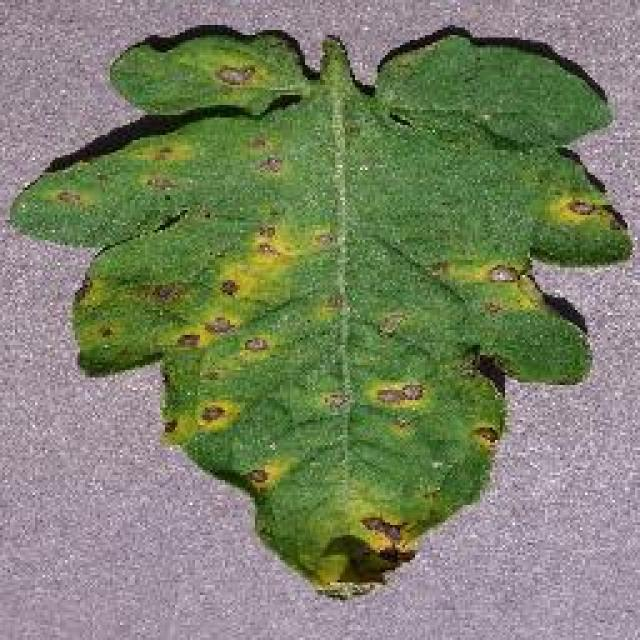Tomato___Septoria_leaf_spot: (10, 28, 628, 598)
